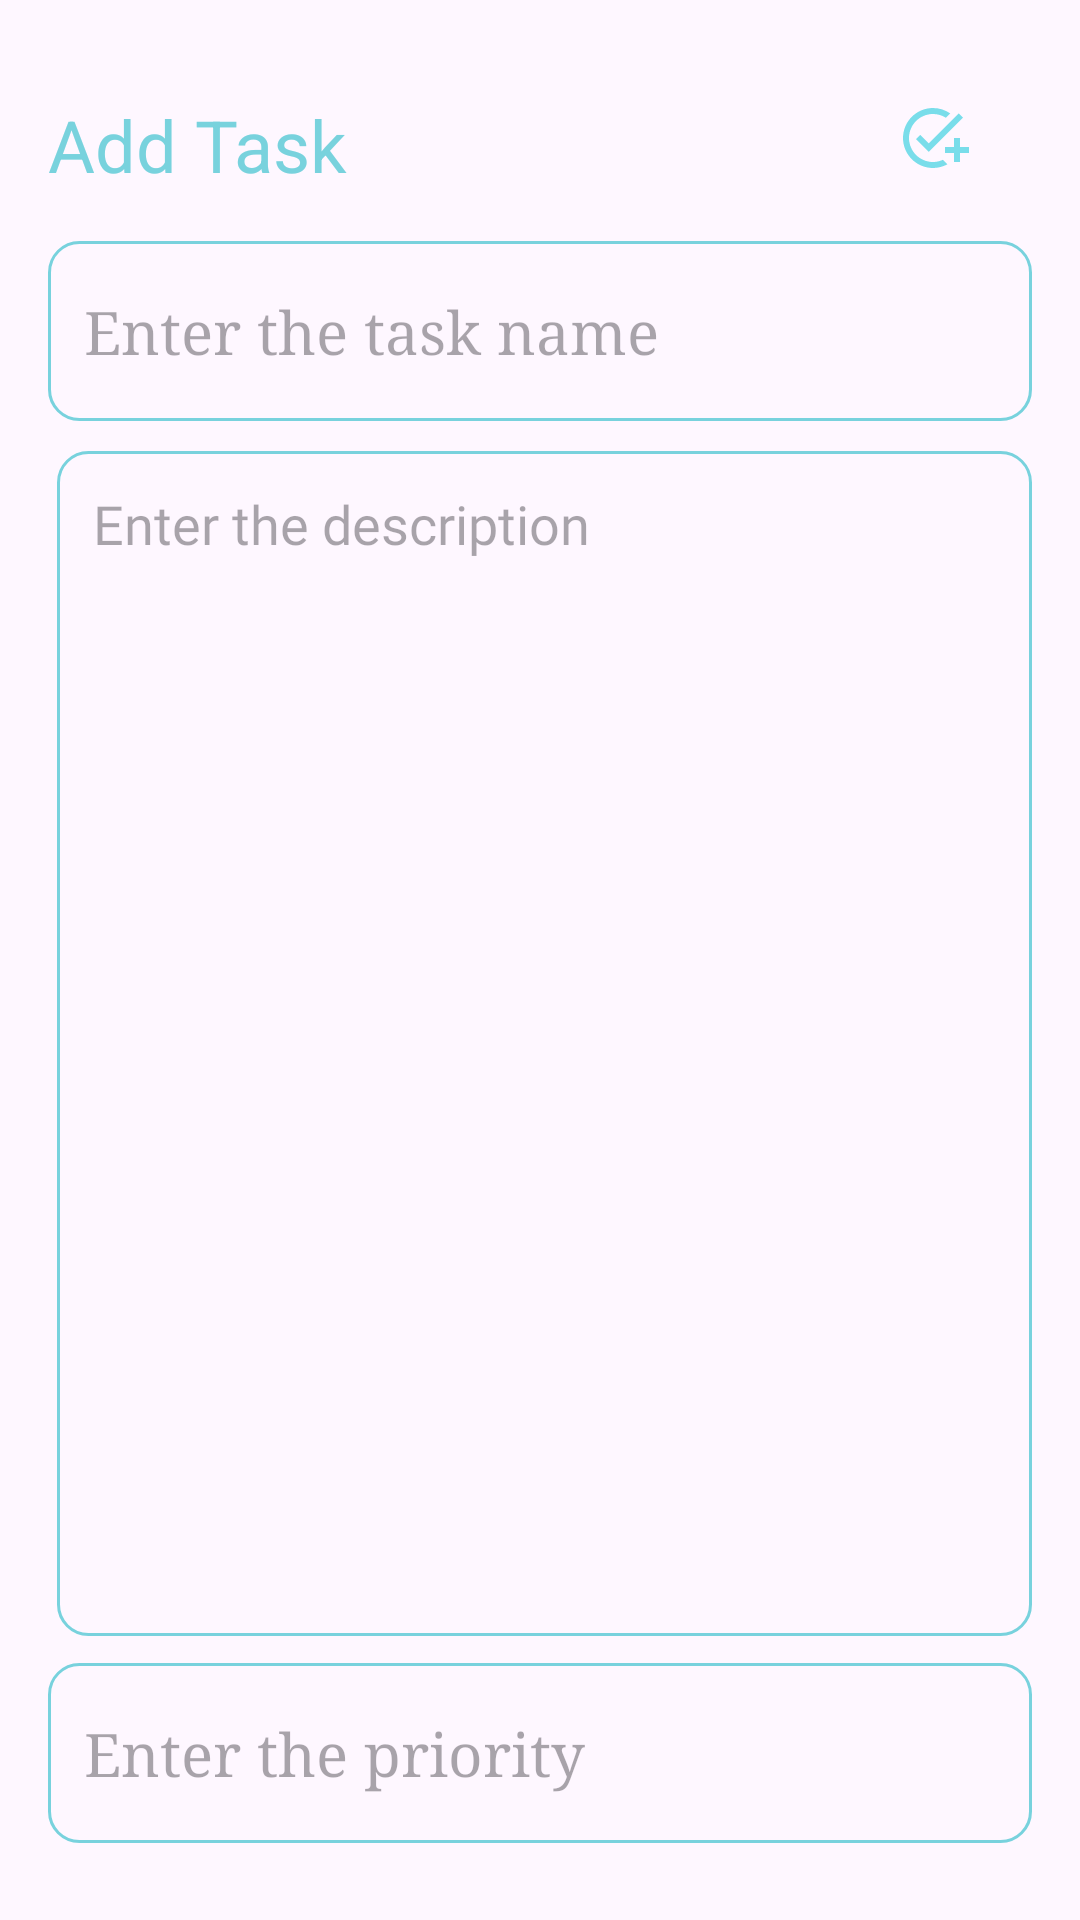

Named icons in this screenshot (1080x1920) and their centers, (x=x, y=y):
add task: (x=936, y=138)
